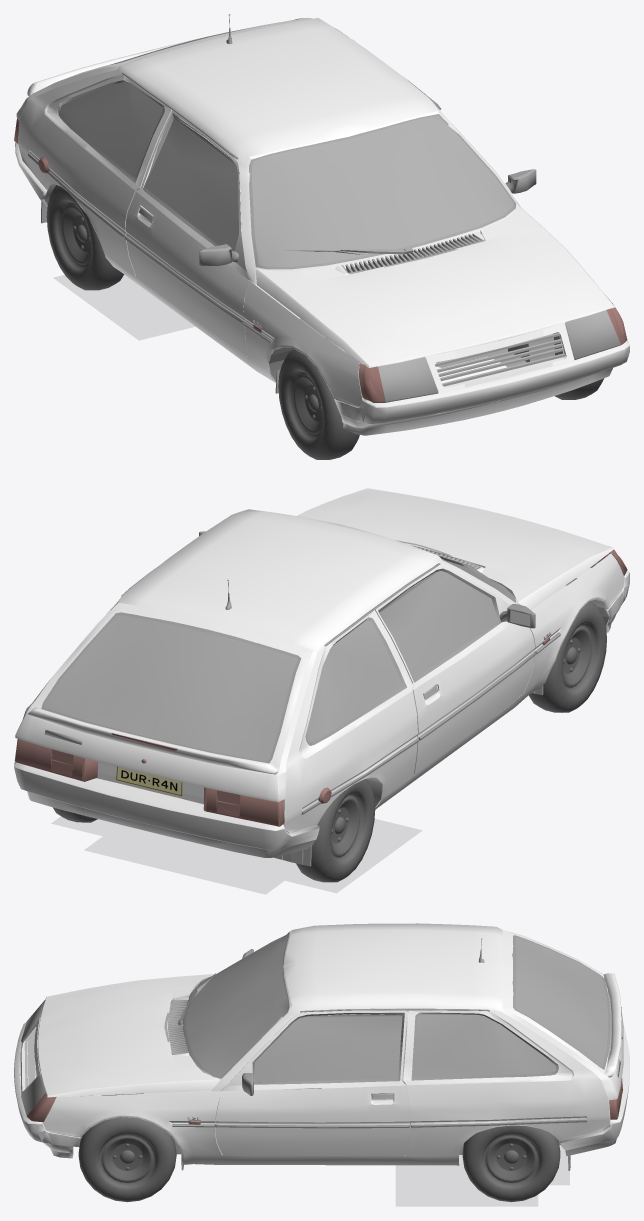
File: car.glb
The picture shows the model from 3 angles, top to bottom: view 1: azimuth 30°, elevation 25°; view 2: azimuth 150°, elevation 25°; view 3: azimuth 270°, elevation 25°; orthographic projection. The views are drawn at different scales.
Parts seen in each view (by area): view 1: chassis, bonnet_ok, windscreen_ok, door_rf_ok, bump_front_ok, Quad_Wheel.003, stekla_far, Plane, Quad_Wheel.002, Boot, door_lf_ok; view 2: chassis, Boot, door_rf_ok, bonnet_ok, bump_rear_ok, Quad_Wheel.002, Quad_Wheel.003, fari_zad; view 3: chassis, door_lf_ok, bonnet_ok, Boot, windscreen_ok, Quad_Wheel, Quad_Wheel.001, bump_rear_ok, bump_front_ok, stekla_far, Plane.
Part boxes in pixels (x1,y1,x2,y2): chassis: (18,14,611,406); bonnet_ok: (256,205,614,367); windscreen_ok: (252,116,514,266); door_rf_ok: (124,109,248,356); bump_front_ok: (334,339,629,435); Quad_Wheel.003: (278,349,359,459); stekla_far: (358,302,627,402); Plane: (425,322,574,393); Quad_Wheel.002: (46,185,123,290); Boot: (16,18,312,120); door_lf_ok: (440,110,536,200); chassis: (73,509,624,833); Boot: (15,602,317,801); door_rf_ok: (375,566,535,774); bonnet_ok: (297,488,614,609); bump_rear_ok: (14,762,319,857); Quad_Wheel.002: (296,779,375,882); Quad_Wheel.003: (528,601,606,712); fari_zad: (14,739,284,826); chassis: (19,923,610,1165); door_lf_ok: (215,1010,409,1156); bonnet_ok: (37,974,219,1097); Boot: (501,930,623,1100); windscreen_ok: (186,933,288,1076); Quad_Wheel: (78,1117,176,1202); Quad_Wheel.001: (462,1125,560,1202); bump_rear_ok: (559,1026,629,1156); bump_front_ok: (14,1022,80,1158); stekla_far: (21,1000,55,1122); Plane: (20,1018,40,1095).
Bounding box in the file's own units: 2.11 × 1.53 × 4.04.
Materials: 17 (1 with a texture image).
